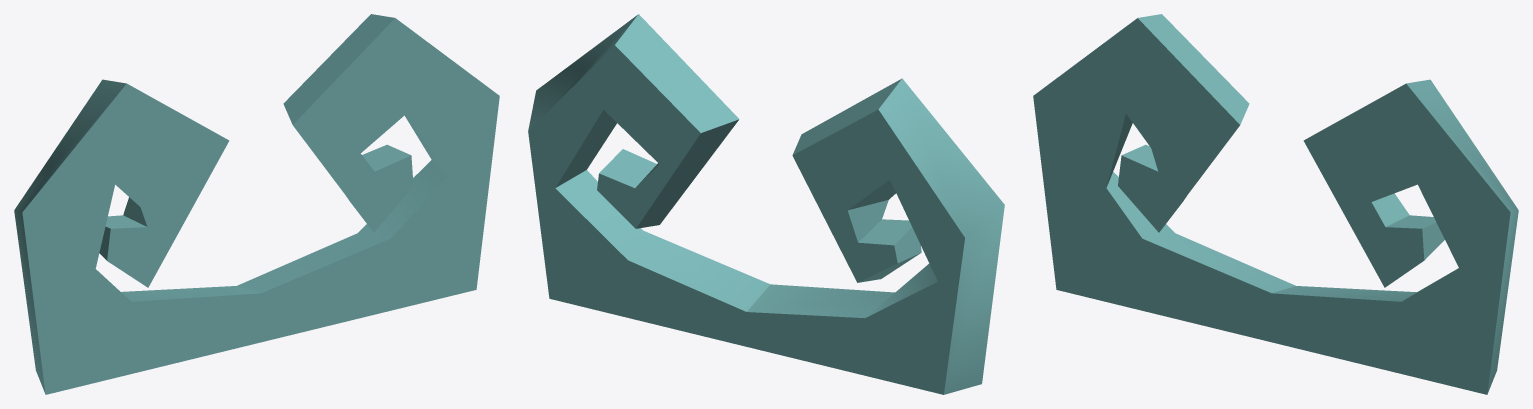
Rendered from cloudy_deco.fbx.
3 views of the same model, side by side, from view 1: azimuth 30°, elevation 25°; view 2: azimuth 150°, elevation 25°; view 3: azimuth 330°, elevation 25° (orthographic).
Visible parts, largest first — view 1: cloudy_deco; view 2: cloudy_deco; view 3: cloudy_deco.
Part boxes in pixels (<box>): cloudy_deco: <box>14,14,499,394</box>; cloudy_deco: <box>528,14,1004,394</box>; cloudy_deco: <box>1033,14,1518,394</box>.
Size of the model in its own units: 100 by 58.38 by 8.84.
